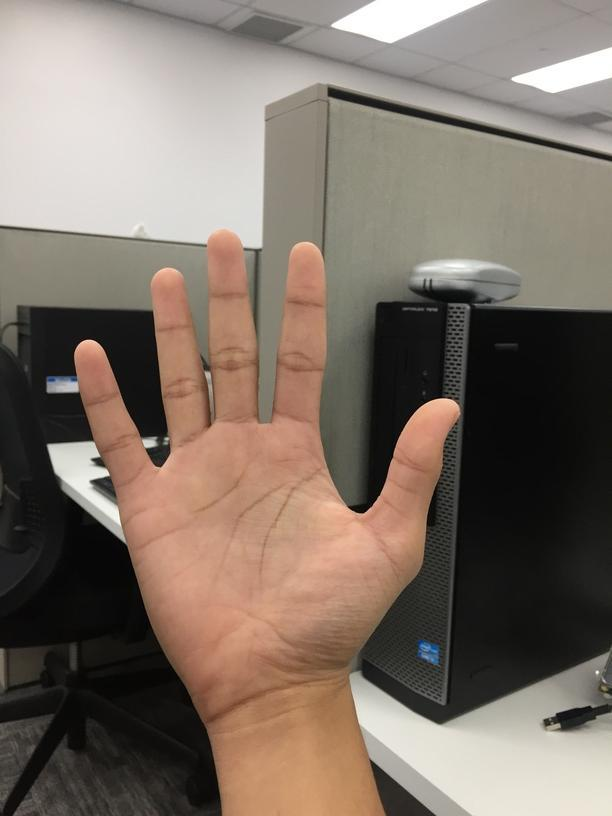hand: (69, 229, 465, 708)
